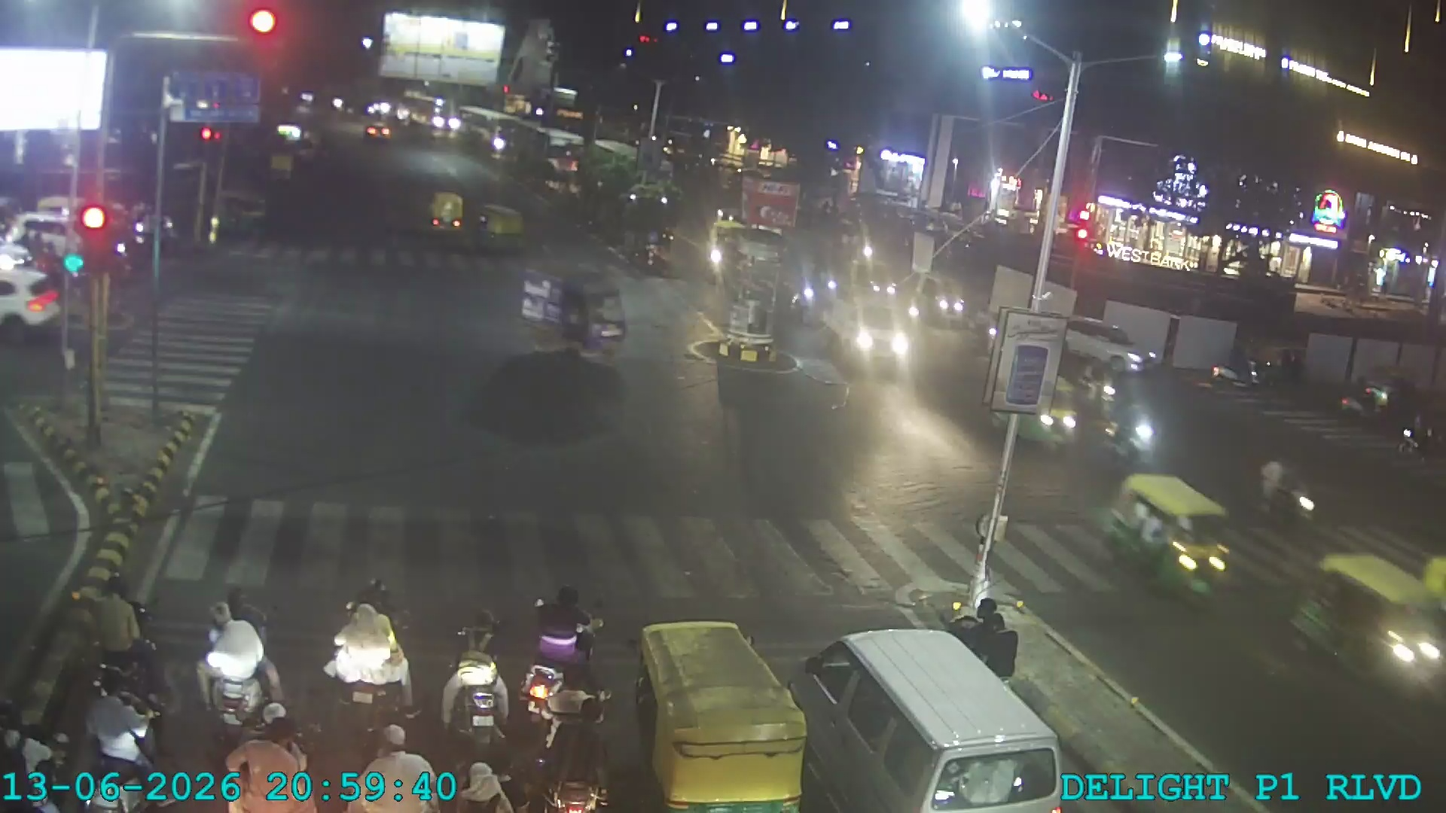auto_rickshaw: (630, 608, 813, 805), (1288, 543, 1446, 735), (1102, 470, 1237, 589), (513, 260, 634, 365), (848, 298, 915, 376), (475, 202, 528, 250), (426, 186, 467, 235)
car: (0, 257, 64, 340)
two_wheeler: (189, 589, 287, 730), (318, 589, 416, 697), (1095, 372, 1162, 460)
